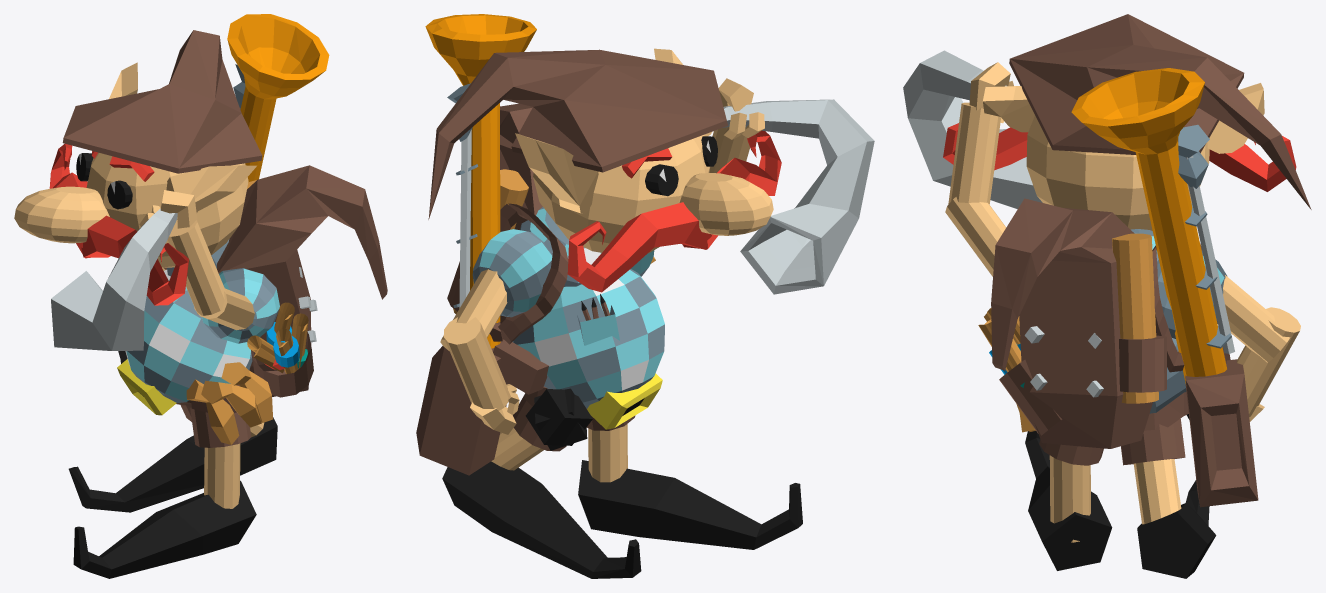
The model's file is Merk%2C Gnome explorer.glb.
3 renders of one model, left to right at view 1: azimuth 30°, elevation 25°; view 2: azimuth 150°, elevation 25°; view 3: azimuth 270°, elevation 25°, orthographic. The views are drawn at different scales.
Visible parts, largest first — view 1: group991492987, group1477283546, group1801197990, group1762968405, group1974655009, group859188652, group379656839, group216602760, group1357883367, group1690864962, group1334621744, group265536534 (+16 smaller); view 2: group991492987, group1801197990, group859188652, group1762968405, group379656839, group1974655009, group216602760, group716773076, group1328852336, group1357883367, group906764231, group31073426 (+19 smaller); view 3: group1477283546, group1974655009, group991492987, group716773076, group216602760, group1801197990, group1762968405, group379656839, group1500939336, group1334621744, group427138764, group552147645 (+18 smaller).
Boxes of the visible parts, box(x1,y1,x2,y2) form: group991492987: box(62, 30, 262, 173); group1477283546: box(217, 165, 387, 396); group1801197990: box(51, 208, 177, 350); group1762968405: box(73, 480, 256, 578); group1974655009: box(227, 14, 329, 182); group859188652: box(125, 269, 252, 405); group379656839: box(68, 417, 277, 512); group216602760: box(86, 152, 248, 267); group1357883367: box(14, 186, 109, 243); group1690864962: box(81, 215, 188, 305); group1334621744: box(167, 220, 226, 315); group265536534: box(202, 268, 279, 343); group991492987: box(428, 49, 727, 219); group1801197990: box(722, 99, 874, 294); group859188652: box(512, 269, 664, 408); group1762968405: box(578, 460, 802, 549); group379656839: box(442, 461, 641, 578); group1974655009: box(425, 14, 536, 348); group216602760: box(533, 134, 709, 253); group716773076: box(416, 339, 508, 475); group1328852336: box(567, 202, 712, 292); group1357883367: box(679, 173, 773, 235); group906764231: box(472, 229, 552, 317); group31073426: box(443, 317, 508, 410); group1477283546: box(991, 198, 1152, 448); group1974655009: box(1071, 68, 1226, 383); group991492987: box(1009, 14, 1311, 209); group716773076: box(1185, 359, 1258, 507); group216602760: box(1026, 115, 1209, 230); group1801197990: box(903, 50, 1042, 208); group1762968405: box(1025, 431, 1112, 570); group379656839: box(1137, 480, 1216, 578); group1500939336: box(1112, 233, 1158, 403); group1334621744: box(948, 102, 1001, 204); group427138764: box(1223, 275, 1290, 362); group552147645: box(1119, 335, 1166, 392).
Bounding box in the file's own units: 0.7134 × 0.9949 × 0.6955.
